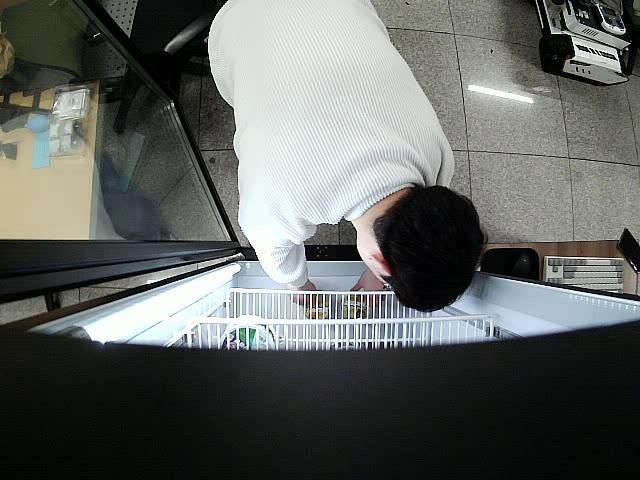04_chapagetti_S: (304, 291, 330, 320), (344, 296, 371, 320)
